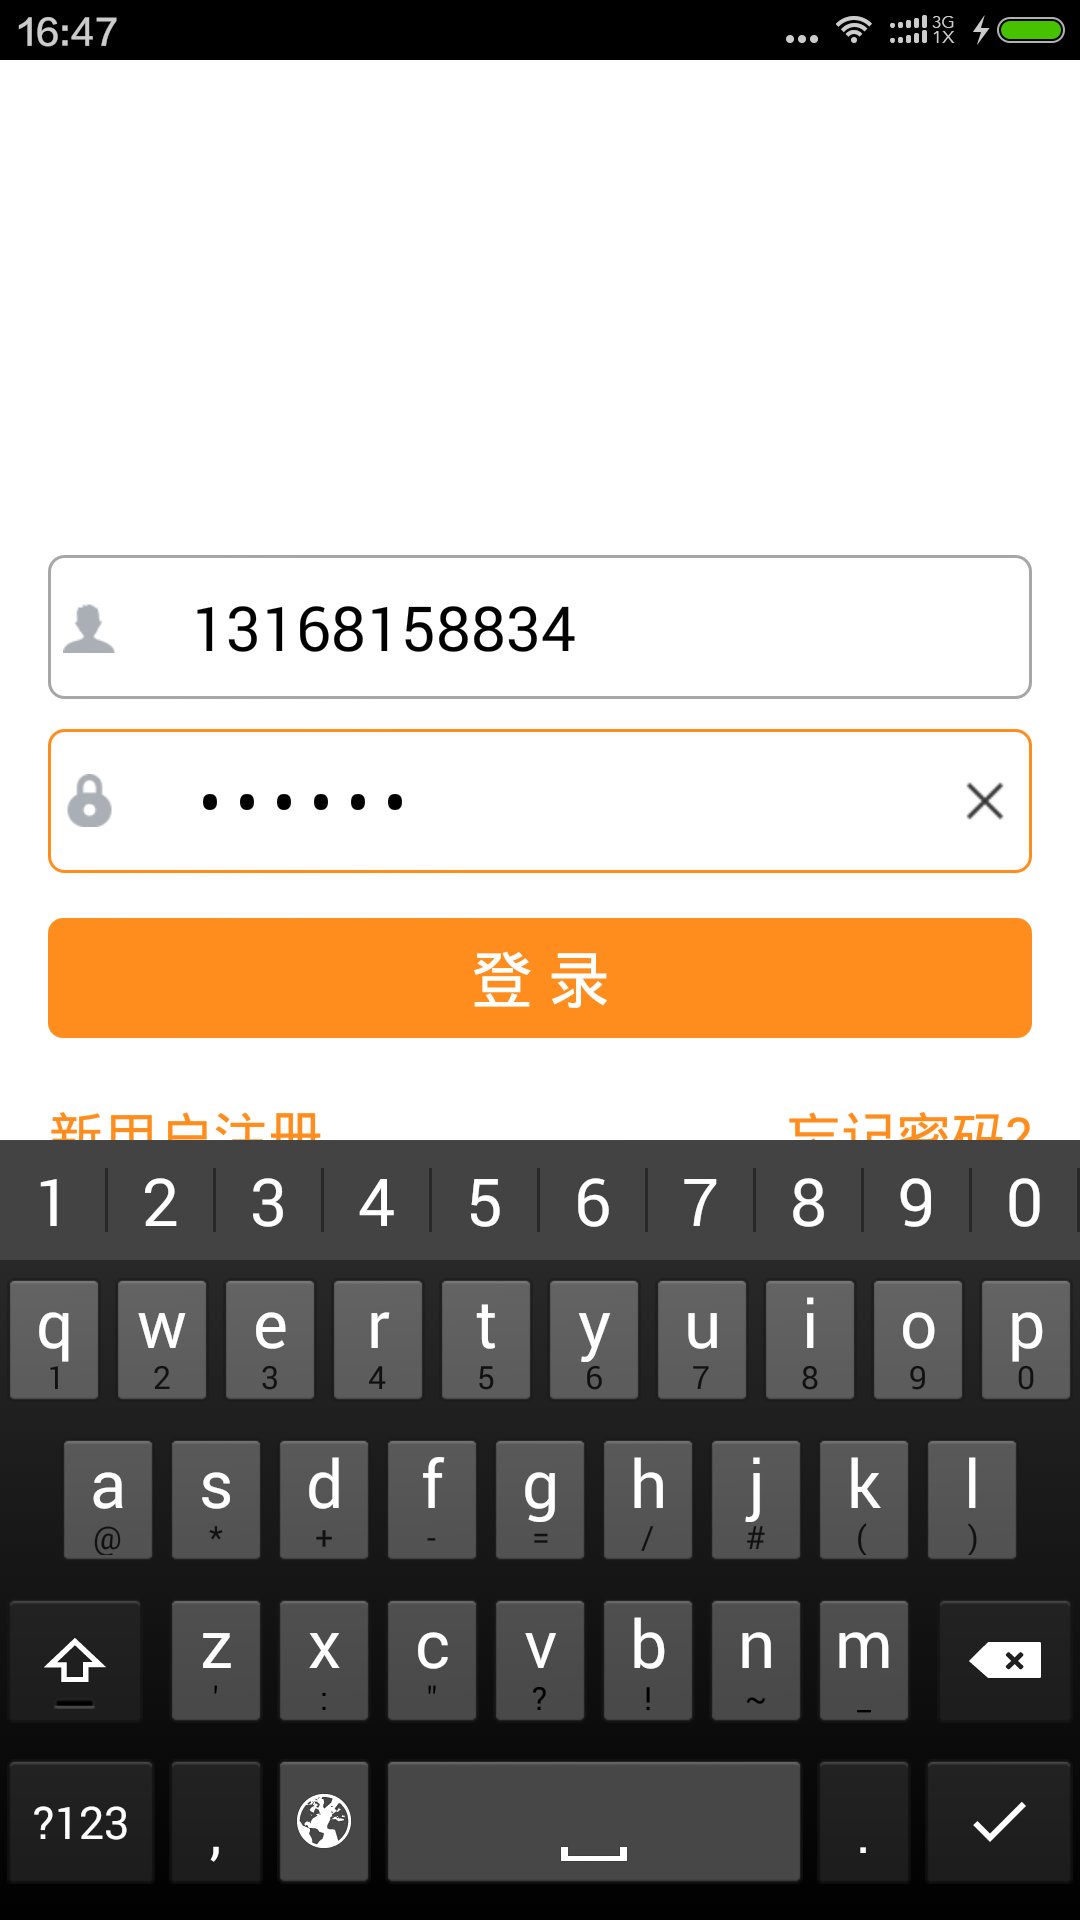button: (17, 913, 1050, 1051)
textview: (33, 727, 1044, 891), (36, 553, 1038, 713)
